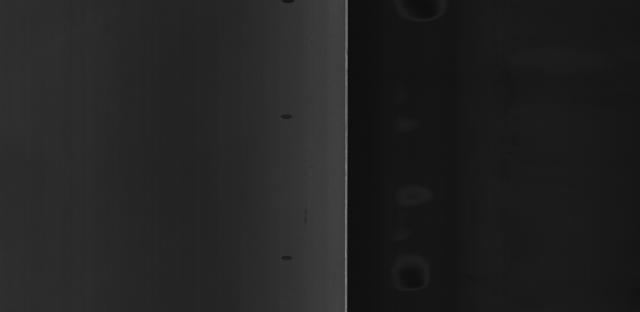oil_spot: (269, 242, 299, 270), (279, 104, 304, 132)
